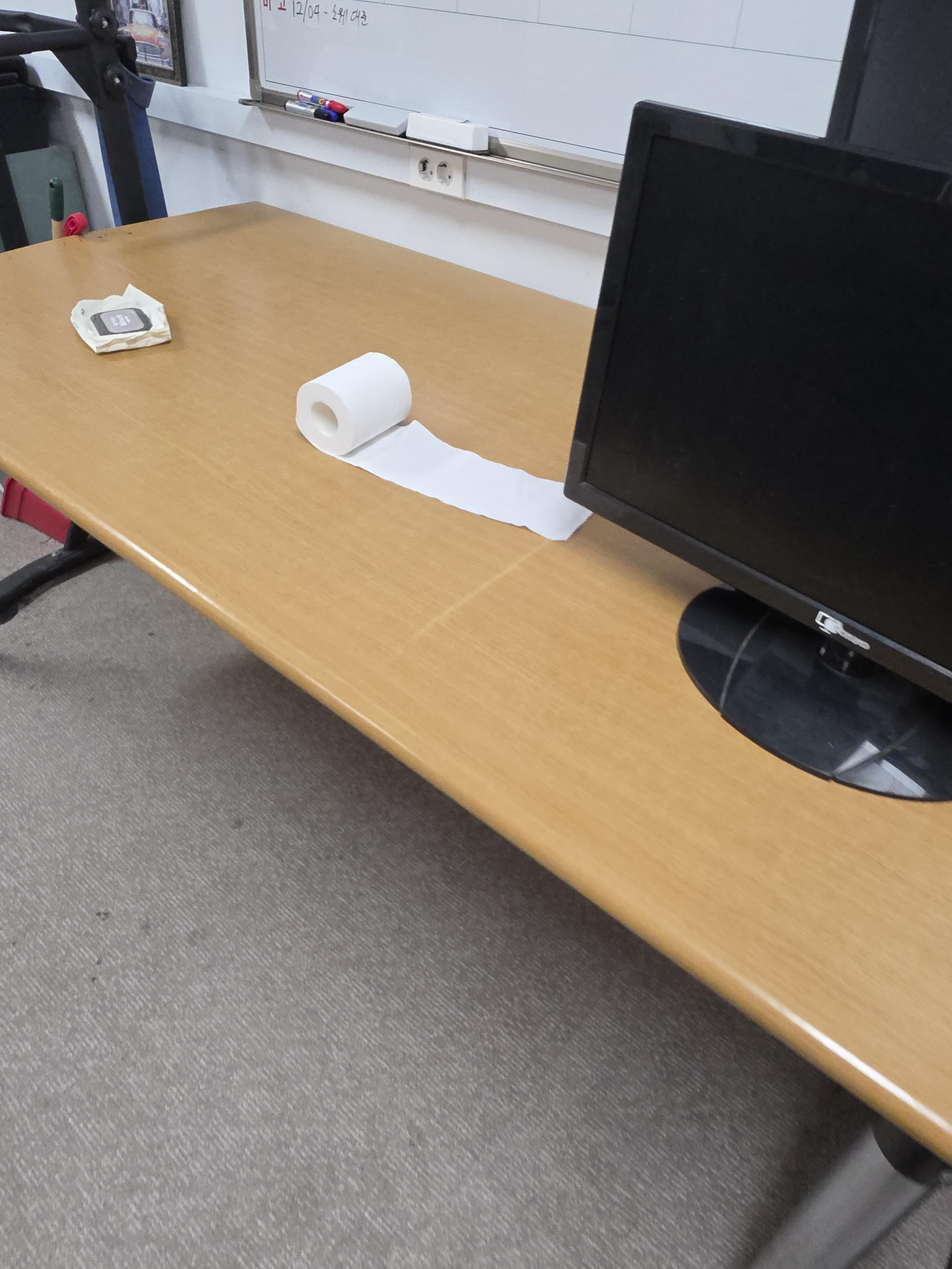tissue: (295, 351, 593, 541)
